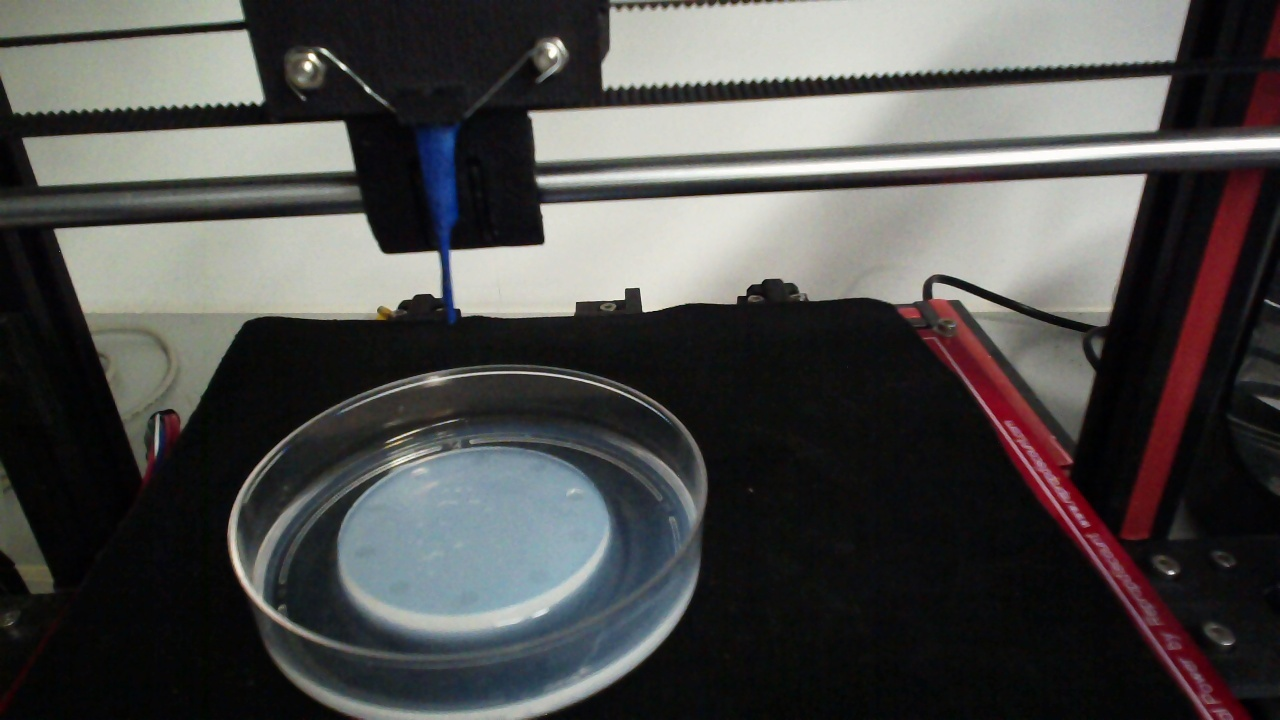groove: (525, 566, 551, 586), (386, 578, 411, 598), (455, 588, 480, 608), (352, 542, 377, 560), (565, 526, 589, 543), (363, 498, 384, 515), (563, 487, 585, 503), (467, 452, 492, 466), (410, 465, 428, 481), (526, 460, 547, 473)
needle: (414, 127, 457, 325)
